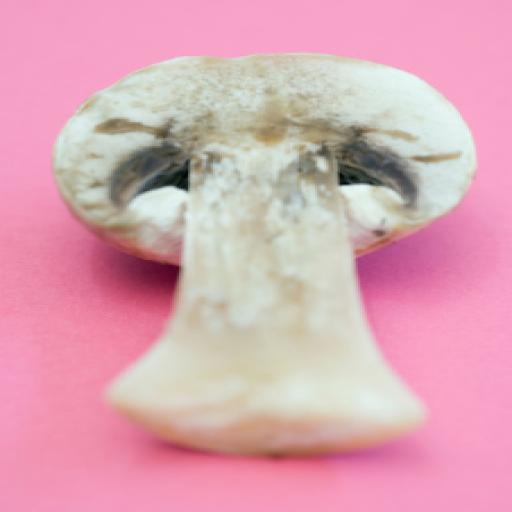mushroom: (49, 32, 489, 462)
